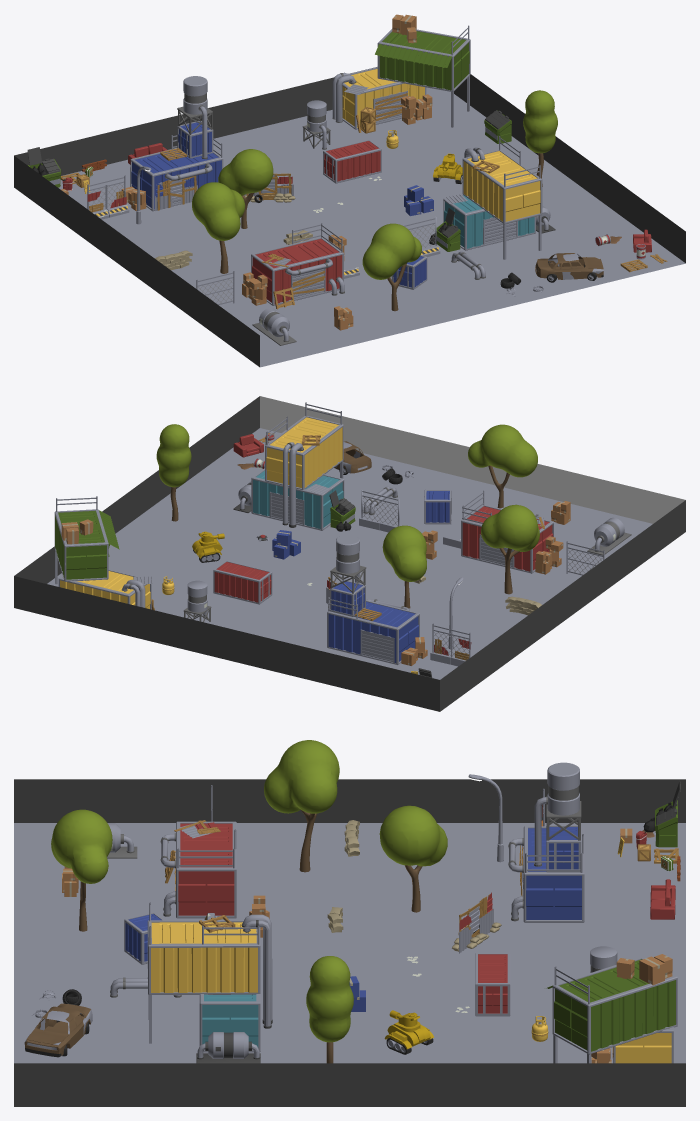
Rendered from newmap.glb.
The picture shows the model from 3 angles, top to bottom: view 1: azimuth 30°, elevation 25°; view 2: azimuth 150°, elevation 25°; view 3: azimuth 270°, elevation 25°; orthographic projection. The views are drawn at different scales.
Parts seen in each view (by area): view 1: Plane, Structure_2, Structure_4, Structure_3, Structure_1, Tree_3, Tree_1, Tree_4, Container_Long, Tree_2, Debris_BrokenCar, Barrier_Fixed (+7 smaller); view 2: Plane, Structure_4, Structure_3, Structure_2, Structure_1, Tree_3, Tree_1, Tree_4, Container_Long, Tree_2, Barrier_Fixed, Container_Small (+7 smaller); view 3: Plane, Structure_4, Structure_2, Structure_3, Structure_1, Tree_1, Tree_3, Tree_4, Tree_2, Debris_BrokenCar, Container_Long, Barrier_Trash (+6 smaller).
Part boxes in pixels (x1,y1,x2,y2): Plane: [14, 67, 685, 367]; Structure_2: [332, 14, 470, 133]; Structure_4: [429, 136, 555, 259]; Structure_3: [121, 76, 223, 211]; Structure_1: [242, 223, 344, 309]; Tree_3: [362, 223, 421, 311]; Tree_1: [192, 182, 245, 273]; Tree_4: [218, 149, 273, 228]; Container_Long: [323, 139, 381, 183]; Tree_2: [523, 90, 557, 186]; Debris_BrokenCar: [535, 253, 603, 282]; Barrier_Fixed: [87, 175, 129, 219]; Plane: [14, 396, 685, 711]; Structure_4: [233, 402, 355, 531]; Structure_3: [327, 535, 427, 665]; Structure_2: [54, 496, 154, 610]; Structure_1: [461, 490, 563, 574]; Tree_3: [468, 424, 537, 508]; Tree_1: [481, 504, 539, 594]; Tree_4: [382, 525, 426, 608]; Container_Long: [213, 560, 272, 604]; Tree_2: [156, 424, 191, 521]; Barrier_Fixed: [430, 623, 471, 666]; Container_Small: [424, 489, 451, 524]; Plane: [14, 779, 685, 1106]; Structure_4: [147, 902, 272, 1063]; Structure_2: [546, 954, 677, 1063]; Structure_3: [508, 762, 584, 922]; Structure_1: [160, 820, 236, 918]; Tree_1: [264, 740, 339, 872]; Tree_3: [51, 809, 112, 931]; Tree_4: [379, 805, 447, 912]; Tree_2: [306, 956, 353, 1063]; Debris_BrokenCar: [24, 1003, 92, 1057]; Container_Long: [475, 953, 510, 1016]; Barrier_Trash: [452, 892, 501, 953].
Bounding box in the file's own units: 39.88 × 9.65 × 39.88.
Materials: 27 (1 with a texture image).
